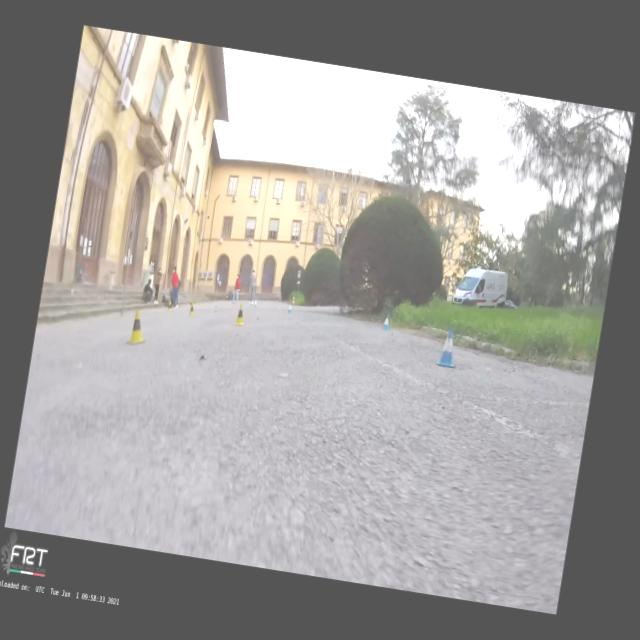blue_cone: (435, 326, 462, 369), (382, 314, 392, 331), (288, 302, 294, 314), (254, 300, 258, 308)
large_orange_cone: (292, 296, 296, 306)
yellow_cone: (126, 307, 151, 347), (235, 303, 248, 327), (189, 302, 197, 318), (168, 300, 174, 312)
